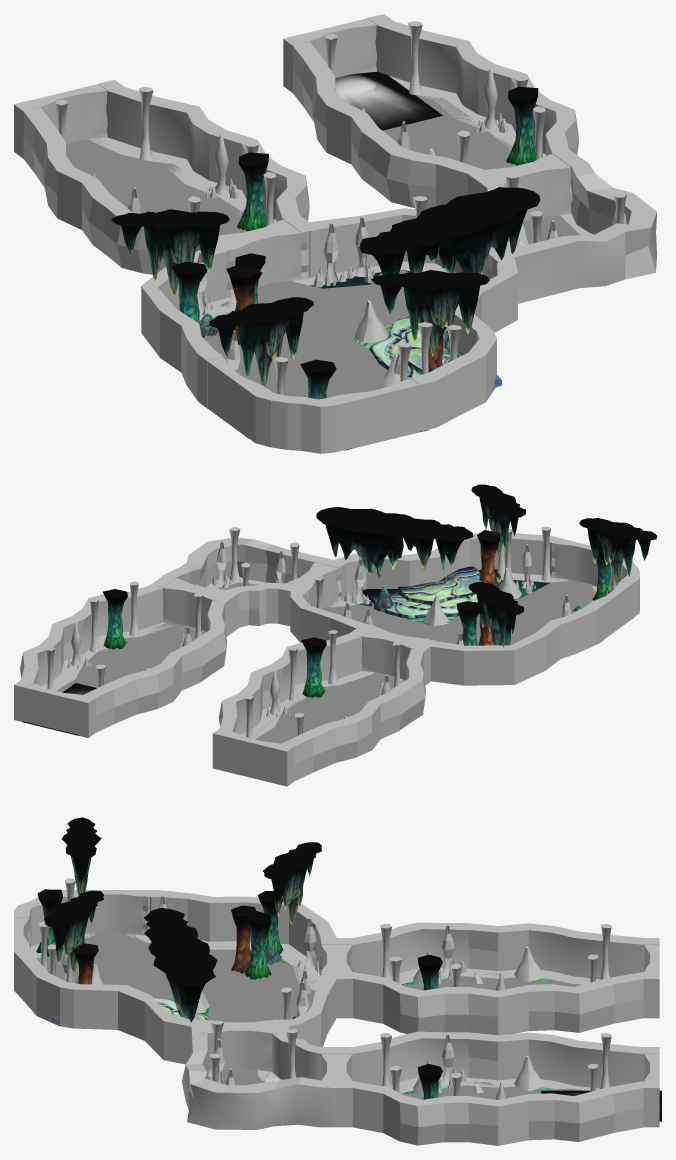
The picture shows the model from 3 angles, top to bottom: view 1: azimuth 30°, elevation 25°; view 2: azimuth 150°, elevation 25°; view 3: azimuth 270°, elevation 25°; orthographic projection. The views are drawn at different scales.
Parts seen in each view (by area): view 1: Dan1 (×3), Dun_061_Room_003_Object02, Dun_061_Room_003_wall, Dun_011_Door_002 (×8), Dun_061_Room_007_Nav, Dun_061_Road_002_Nav (×2), Dun_061_ExitLight, Dungeon_061_Object_04_Pillar (×2), Dan1_shadow (×2), Dun_061_Room_003_Object01, Dungeon_061_OB01_Rock02 (×2), Dungeon_061_OB01_Rock03 (×2) (+8 smaller); view 2: Dan1 (×3), Dun_061_Room_003_wall, Dun_011_Door_002 (×7), Dun_061_Room_003_Object02, Dun_061_Road_002_Nav (×2), Dun_061_Room_007_Nav, Dun_061_Room_003_Object01, Dungeon_061_Object_04_Pillar (×2), Dan1_shadow (×2), Dungeon_011_Object_010, Dungeon_061_Object_010_4, Dungeon_061_Object_010_3 (+2 smaller); view 3: Dan1 (×3), Dun_061_Room_003_wall, Dun_061_Room_003_Object02, Dun_011_Door_002 (×10), Dun_061_Room_007_Nav, Dun_061_Road_002_Nav (×2), Dan1_shadow (×2), Dungeon_011_Object_010 (×2), Dun_061_Room_003_shadow, Dungeon_061_Object_04_Pillar (×2), Dungeon_061_Object_010_4, Dungeon_061_OB01_Rock01_2 (×2) (+5 smaller).
Boxes of the visible parts, <box> form: Dan1 (×3): <box>14,14,656,303</box>; Dun_061_Room_003_Object02: <box>111,187,540,386</box>; Dun_061_Room_003_wall: <box>141,208,517,453</box>; Dun_011_Door_002 (×8): <box>16,14,580,448</box>; Dun_061_Room_007_Nav: <box>204,270,409,397</box>; Dun_061_Road_002_Nav (×2): <box>66,95,516,235</box>; Dun_061_ExitLight: <box>335,71,442,130</box>; Dungeon_061_Object_04_Pillar (×2): <box>237,86,538,231</box>; Dan1_shadow (×2): <box>89,76,545,222</box>; Dun_061_Room_003_Object01: <box>358,317,501,388</box>; Dungeon_061_OB01_Rock02 (×2): <box>205,68,508,198</box>; Dungeon_061_OB01_Rock03 (×2): <box>138,21,422,160</box>; Dan1 (×3): <box>14,538,430,786</box>; Dun_061_Room_003_wall: <box>290,533,639,685</box>; Dun_011_Door_002 (×7): <box>16,535,638,783</box>; Dun_061_Room_003_Object02: <box>316,484,657,647</box>; Dun_061_Road_002_Nav (×2): <box>56,623,405,743</box>; Dun_061_Room_007_Nav: <box>323,579,596,645</box>; Dun_061_Room_003_Object01: <box>363,566,501,622</box>; Dungeon_061_Object_04_Pillar (×2): <box>103,589,326,697</box>; Dan1_shadow (×2): <box>41,622,403,739</box>; Dungeon_011_Object_010: <box>477,530,500,586</box>; Dungeon_061_Object_010_4: <box>456,601,479,645</box>; Dungeon_061_Object_010_3: <box>592,543,611,600</box>; Dan1 (×3): <box>181,922,659,1145</box>; Dun_061_Room_003_wall: <box>14,890,336,1064</box>; Dun_061_Room_003_Object02: <box>44,817,321,1022</box>; Dun_011_Door_002 (×10): <box>14,890,659,1086</box>; Dun_061_Room_007_Nav: <box>36,933,316,1022</box>; Dun_061_Road_002_Nav (×2): <box>401,973,581,1099</box>; Dan1_shadow (×2): <box>390,968,600,1093</box>; Dungeon_011_Object_010 (×2): <box>73,905,255,984</box>; Dun_061_Room_003_shadow: <box>30,933,320,1010</box>; Dungeon_061_Object_04_Pillar (×2): <box>417,954,442,1099</box>; Dungeon_061_Object_010_4: <box>245,911,271,979</box>; Dungeon_061_OB01_Rock01_2 (×2): <box>514,946,543,1090</box>.
Bounding box in the file's own units: 25.74 × 5.03 × 30.1.
